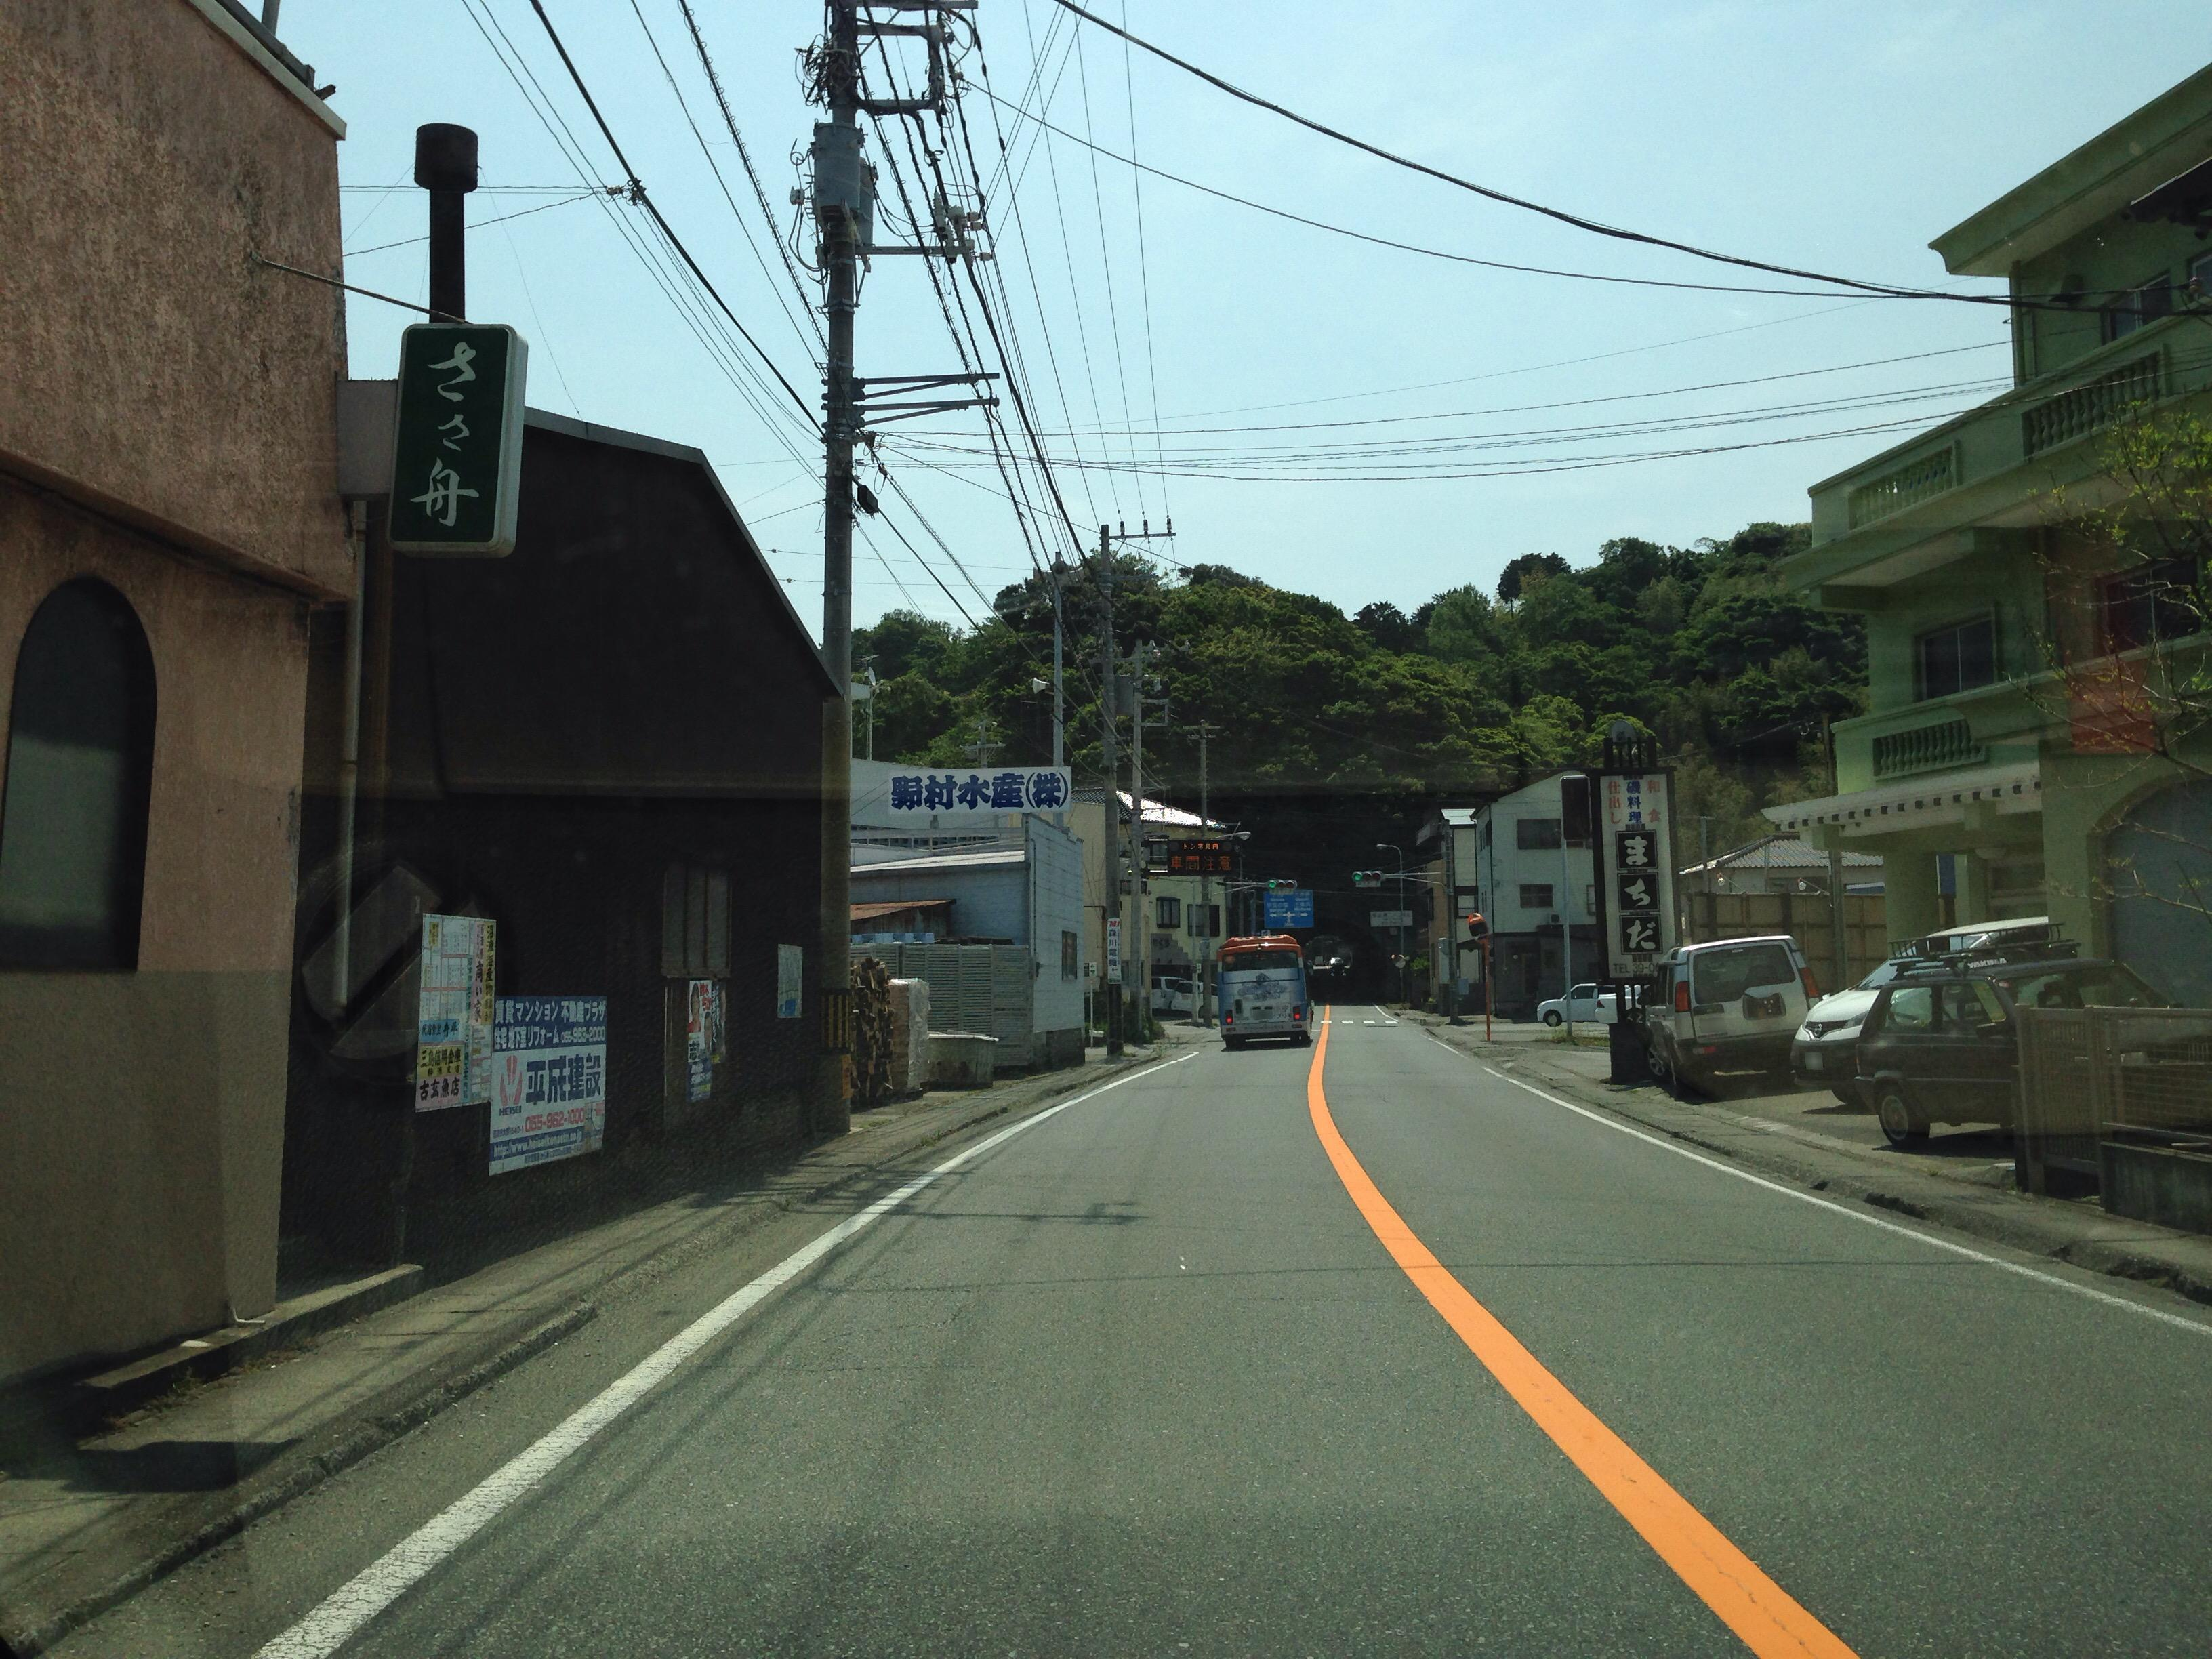vinyl banner: (486, 993, 604, 1190), (869, 741, 1118, 814), (415, 885, 491, 1119)
